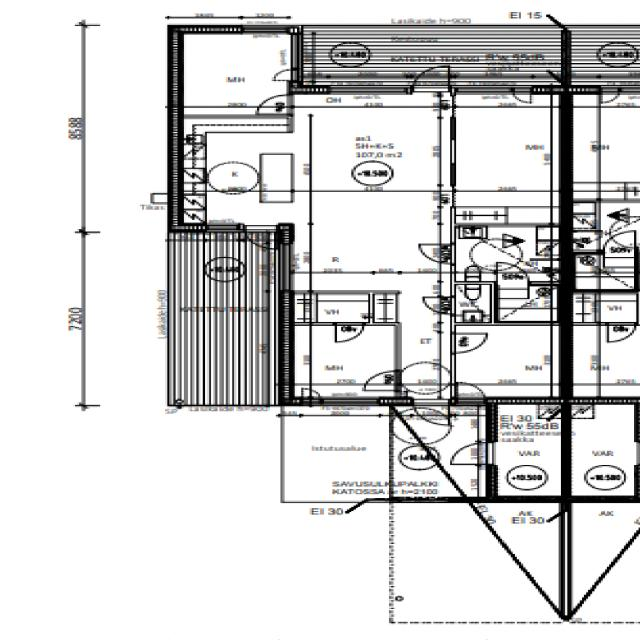door: (412, 64, 450, 94), (412, 398, 448, 427), (452, 442, 497, 464), (245, 225, 276, 251), (363, 370, 401, 390), (450, 333, 488, 353), (256, 95, 292, 114), (419, 245, 455, 264), (497, 264, 527, 284), (422, 297, 455, 315), (335, 323, 363, 342)
